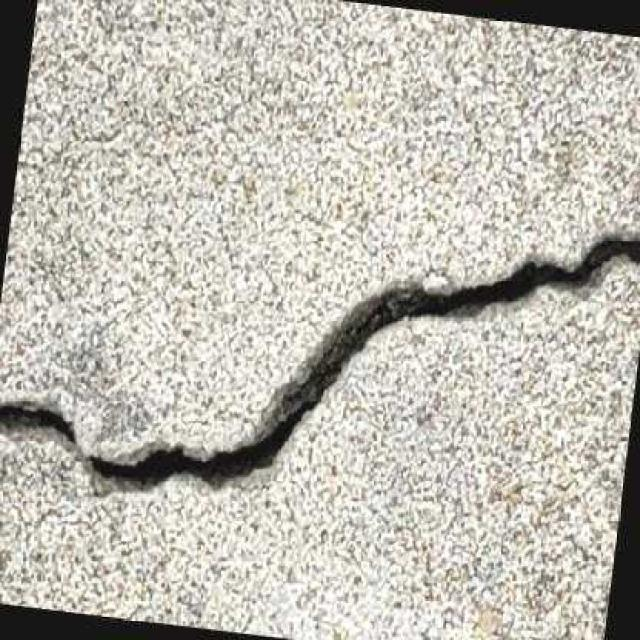D00: (0, 237, 640, 485)
